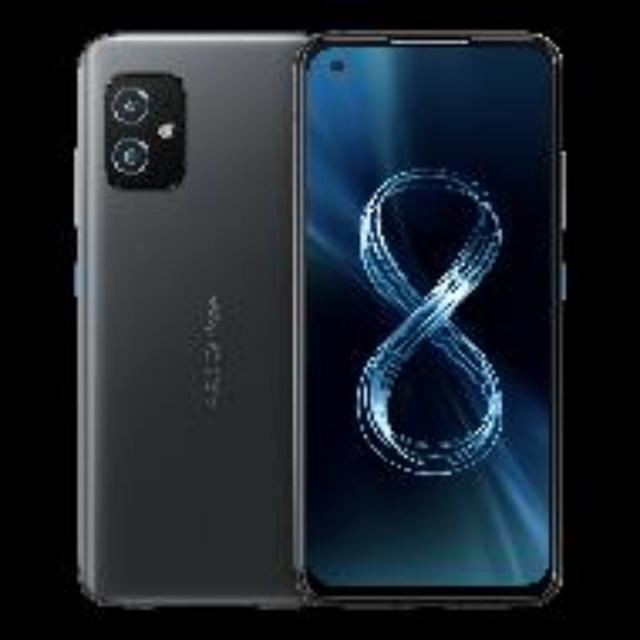phone: (292, 26, 600, 598), (78, 25, 312, 609)
